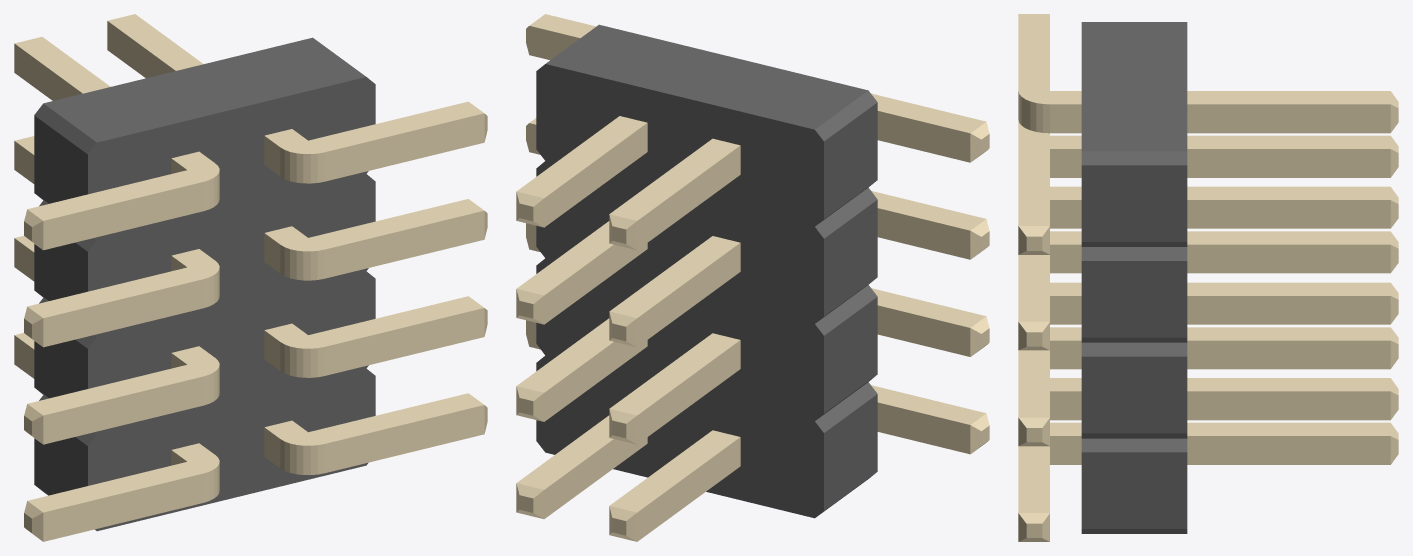
File: PinHeader_2x04_P1.00mm_Vertical_SMD.glb
3 renders of one model, left to right at view 1: azimuth 30°, elevation 25°; view 2: azimuth 150°, elevation 25°; view 3: azimuth 270°, elevation 25°, orthographic.
Visible parts, largest first — view 1: Shape_IndexedFaceSet.003, Shape_IndexedFaceSet.001, Shape_IndexedFaceSet.115, Shape_IndexedFaceSet.125, Shape_IndexedFaceSet.130, Shape_IndexedFaceSet.120, Shape_IndexedFaceSet.105, Shape_IndexedFaceSet.095, Shape_IndexedFaceSet.100, Shape_IndexedFaceSet.110, Shape_IndexedFaceSet.007, Shape_IndexedFaceSet.034 (+22 smaller); view 2: Shape_IndexedFaceSet.004, Shape_IndexedFaceSet.001, Shape_IndexedFaceSet.013, Shape_IndexedFaceSet.025, Shape_IndexedFaceSet.007, Shape_IndexedFaceSet.019, Shape_IndexedFaceSet.082, Shape_IndexedFaceSet.088, Shape_IndexedFaceSet.086, Shape_IndexedFaceSet.068, Shape_IndexedFaceSet.060, Shape_IndexedFaceSet.069 (+24 smaller); view 3: Shape_IndexedFaceSet.001, Shape_IndexedFaceSet.016, Shape_IndexedFaceSet.002, Shape_IndexedFaceSet.010, Shape_IndexedFaceSet.022, Shape_IndexedFaceSet.067, Shape_IndexedFaceSet.073, Shape_IndexedFaceSet.080, Shape_IndexedFaceSet.090, Shape_IndexedFaceSet.062, Shape_IndexedFaceSet.070, Shape_IndexedFaceSet.076 (+32 smaller).
Part boxes in pixels (left/top/right/bottom): Shape_IndexedFaceSet.003: left=88, top=77, right=375, bottom=531; Shape_IndexedFaceSet.001: left=44, top=37, right=365, bottom=142; Shape_IndexedFaceSet.115: left=324, top=405, right=484, bottom=473; Shape_IndexedFaceSet.125: left=324, top=113, right=484, bottom=181; Shape_IndexedFaceSet.130: left=43, top=182, right=203, bottom=250; Shape_IndexedFaceSet.120: left=43, top=473, right=203, bottom=541; Shape_IndexedFaceSet.105: left=43, top=376, right=203, bottom=444; Shape_IndexedFaceSet.095: left=43, top=279, right=203, bottom=347; Shape_IndexedFaceSet.100: left=324, top=210, right=484, bottom=278; Shape_IndexedFaceSet.110: left=324, top=308, right=484, bottom=375; Shape_IndexedFaceSet.007: left=34, top=115, right=87, bottom=203; Shape_IndexedFaceSet.034: left=265, top=199, right=483, bottom=251; Shape_IndexedFaceSet.004: left=536, top=64, right=823, bottom=518; Shape_IndexedFaceSet.001: left=546, top=24, right=867, bottom=129; Shape_IndexedFaceSet.013: left=824, top=200, right=877, bottom=316; Shape_IndexedFaceSet.025: left=824, top=394, right=877, bottom=510; Shape_IndexedFaceSet.007: left=824, top=102, right=877, bottom=218; Shape_IndexedFaceSet.019: left=824, top=297, right=877, bottom=413; Shape_IndexedFaceSet.082: left=637, top=437, right=740, bottom=541; Shape_IndexedFaceSet.088: left=637, top=145, right=740, bottom=249; Shape_IndexedFaceSet.086: left=544, top=123, right=647, bottom=227; Shape_IndexedFaceSet.068: left=637, top=340, right=740, bottom=444; Shape_IndexedFaceSet.060: left=637, top=243, right=740, bottom=346; Shape_IndexedFaceSet.069: left=609, top=333, right=739, bottom=415; Shape_IndexedFaceSet.001: left=1081, top=22, right=1187, bottom=151; Shape_IndexedFaceSet.016: left=1081, top=356, right=1187, bottom=433; Shape_IndexedFaceSet.002: left=1081, top=165, right=1187, bottom=241; Shape_IndexedFaceSet.010: left=1081, top=261, right=1187, bottom=337; Shape_IndexedFaceSet.022: left=1081, top=452, right=1187, bottom=528; Shape_IndexedFaceSet.067: left=1187, top=244, right=1390, bottom=273; Shape_IndexedFaceSet.073: left=1187, top=340, right=1390, bottom=369; Shape_IndexedFaceSet.080: left=1187, top=391, right=1390, bottom=420; Shape_IndexedFaceSet.090: left=1187, top=104, right=1390, bottom=133; Shape_IndexedFaceSet.062: left=1187, top=200, right=1390, bottom=228; Shape_IndexedFaceSet.070: left=1187, top=296, right=1390, bottom=324; Shape_IndexedFaceSet.076: left=1187, top=436, right=1390, bottom=464.
Size of the model in its own units: 1.93 by 1.57 by 1.42.
